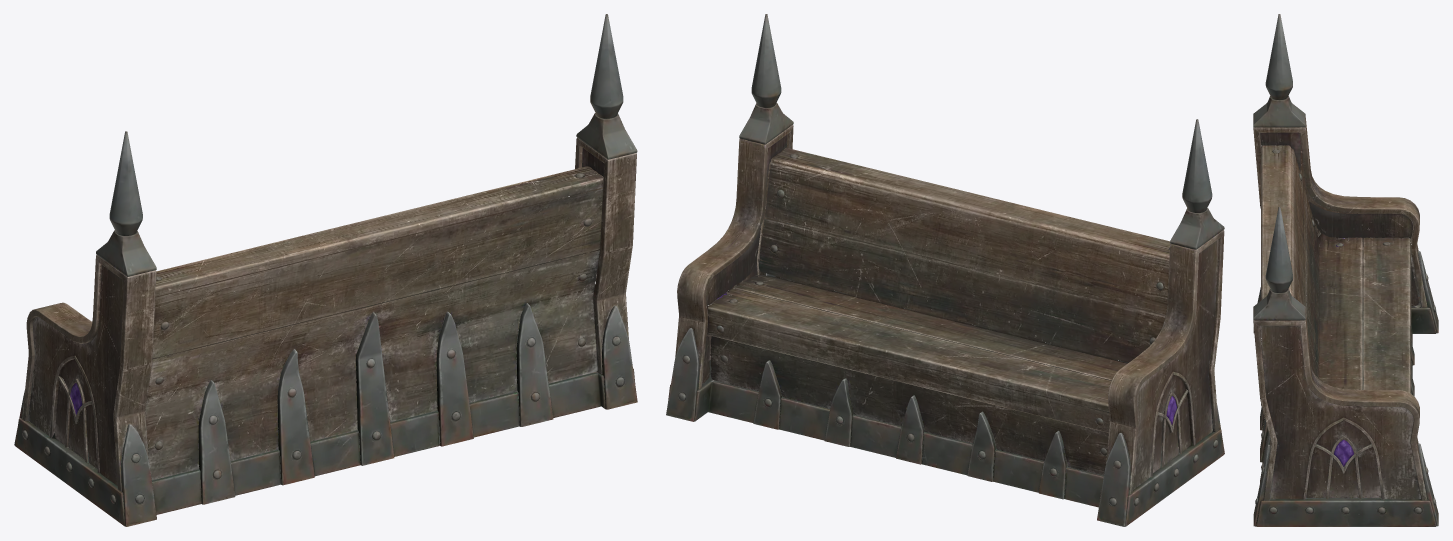
The picture shows the model from 3 angles, left to right: view 1: azimuth 30°, elevation 25°; view 2: azimuth 150°, elevation 25°; view 3: azimuth 270°, elevation 25°; orthographic projection. The views are drawn at different scales.
Parts seen in each view (by area): view 1: SM_DeathTemple_Pew_01v1_LOD0; view 2: SM_DeathTemple_Pew_01v1_LOD0; view 3: SM_DeathTemple_Pew_01v1_LOD0.
Part boxes in pixels (x1,y1,x2,y2): SM_DeathTemple_Pew_01v1_LOD0: (14,14,637,526); SM_DeathTemple_Pew_01v1_LOD0: (666,14,1224,526); SM_DeathTemple_Pew_01v1_LOD0: (1253,14,1438,526).
Size of the model in its own units: 2.91 by 2.05 by 1.1.
Materials: 1 (1 with a texture image).
